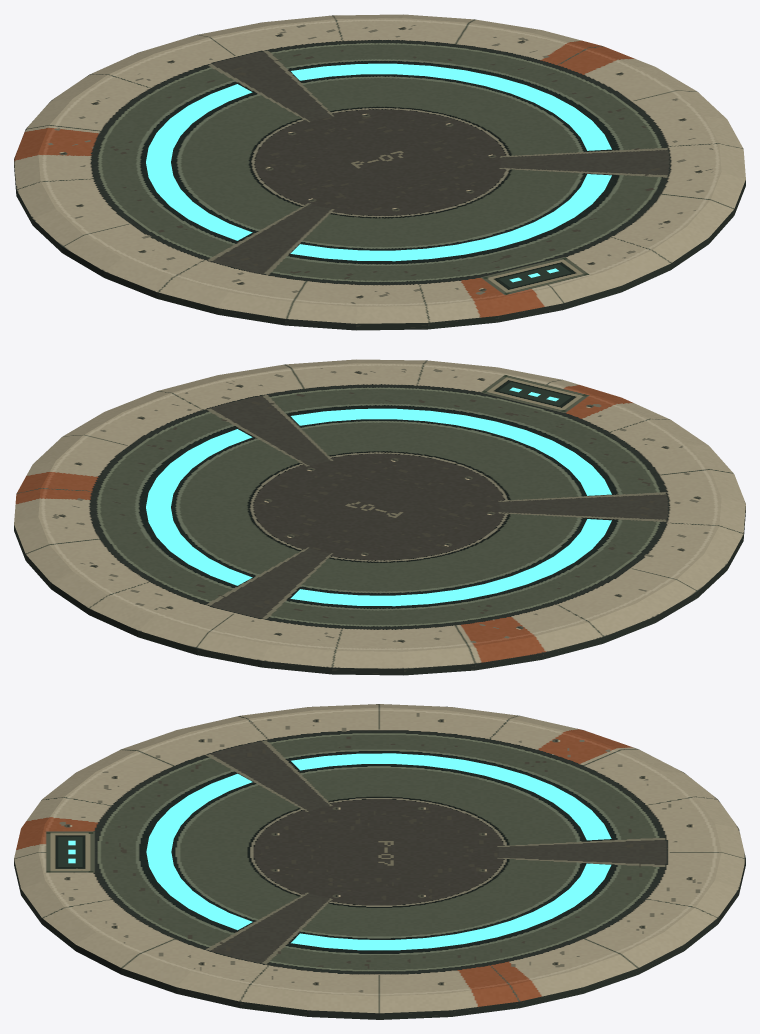
File: ParkingMagnet.fbx
3 views of the same model, one above another, from view 1: azimuth 30°, elevation 25°; view 2: azimuth 150°, elevation 25°; view 3: azimuth 270°, elevation 25° (orthographic).
Visible parts, largest first — view 1: Housing, MagneticEmitter; view 2: Housing, MagneticEmitter; view 3: Housing, MagneticEmitter.
Boxes of the visible parts, box(x1,y1,x2,y2) form: Housing: box(14, 14, 745, 330); MagneticEmitter: box(146, 63, 611, 282); Housing: box(14, 359, 745, 675); MagneticEmitter: box(146, 387, 611, 606); Housing: box(14, 704, 745, 1019); MagneticEmitter: box(68, 753, 611, 950).
Bounding box in the file's own units: 120 × 2.42 × 120.
